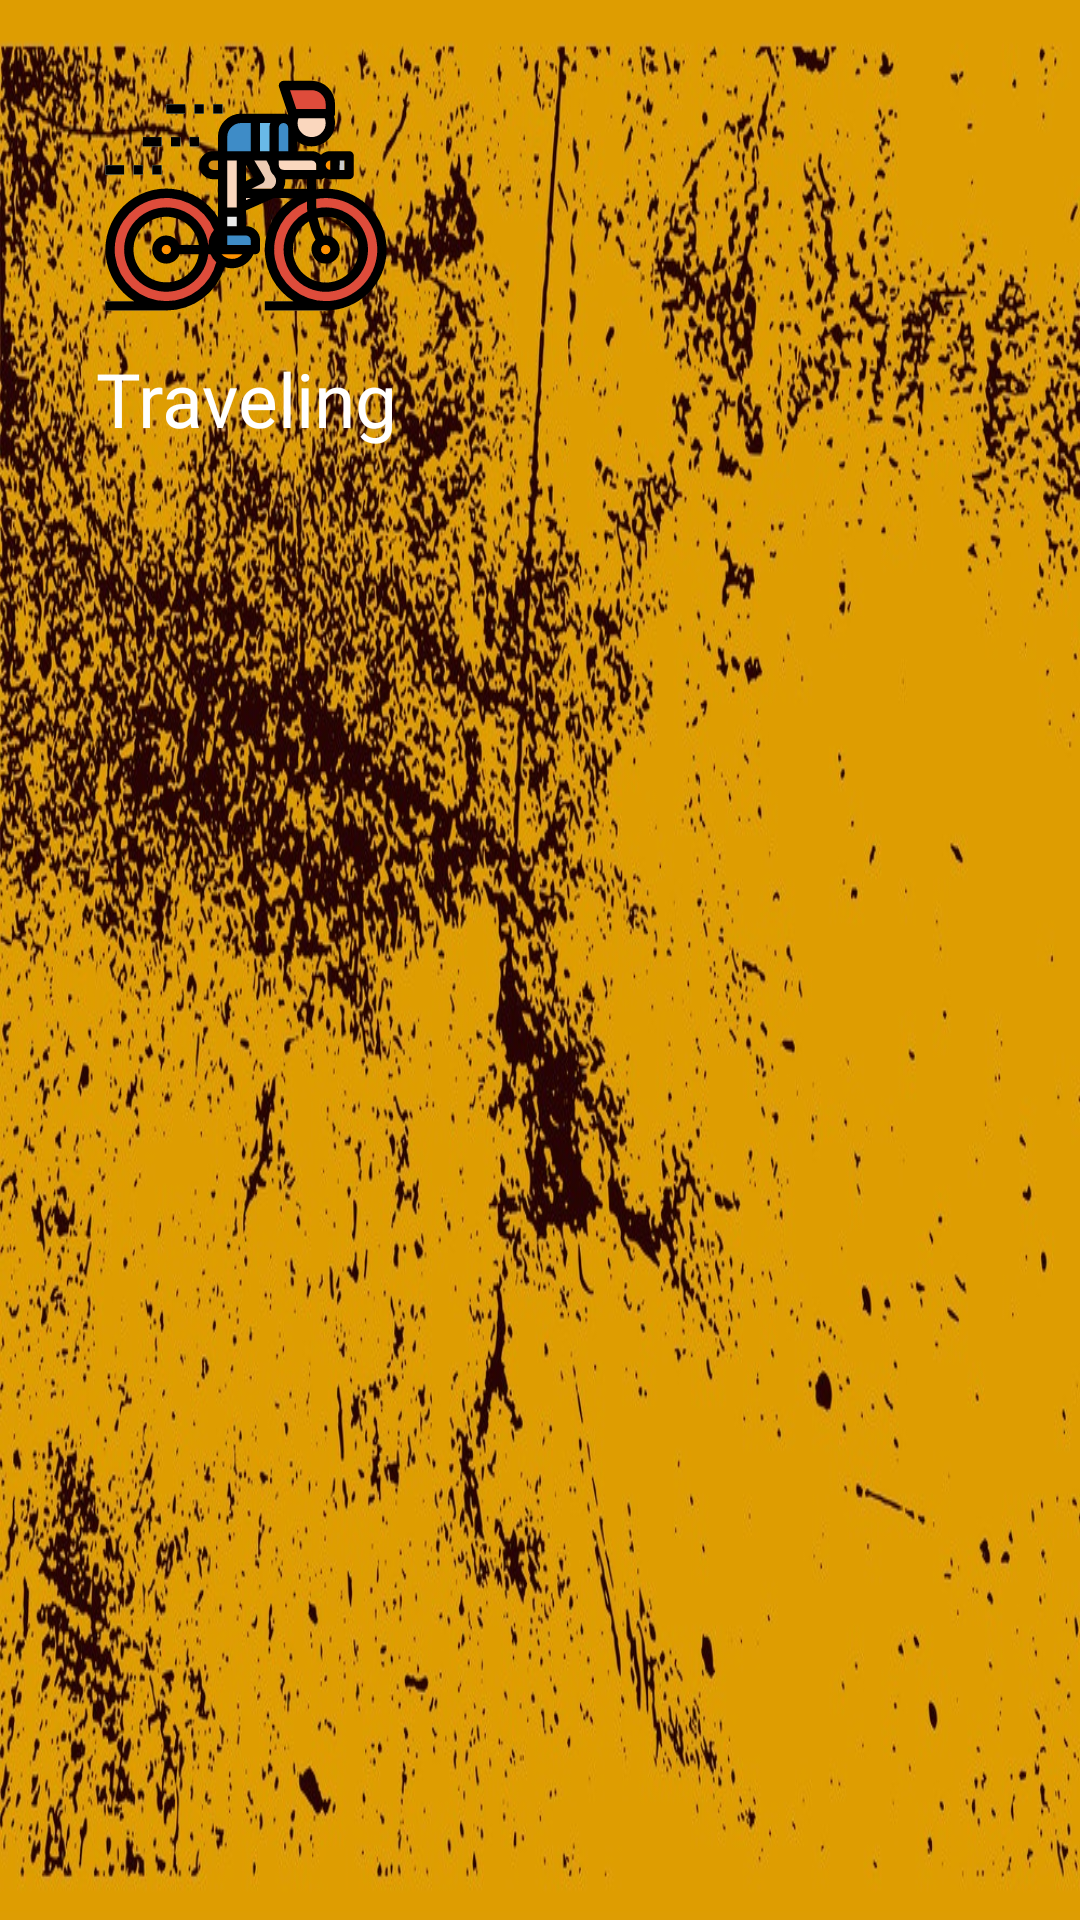

Icons on this 1080 × 1920 Android screen, each with the point to tap as (x=x, y=y):
cycling: (x=246, y=198)
